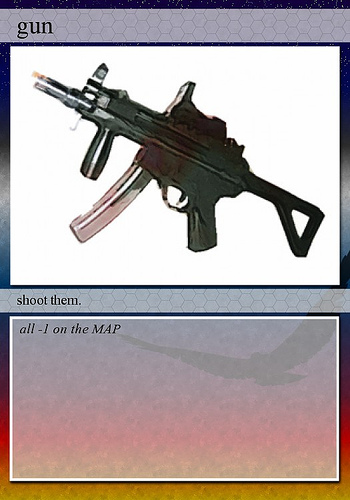rifle: (25, 59, 317, 264)
